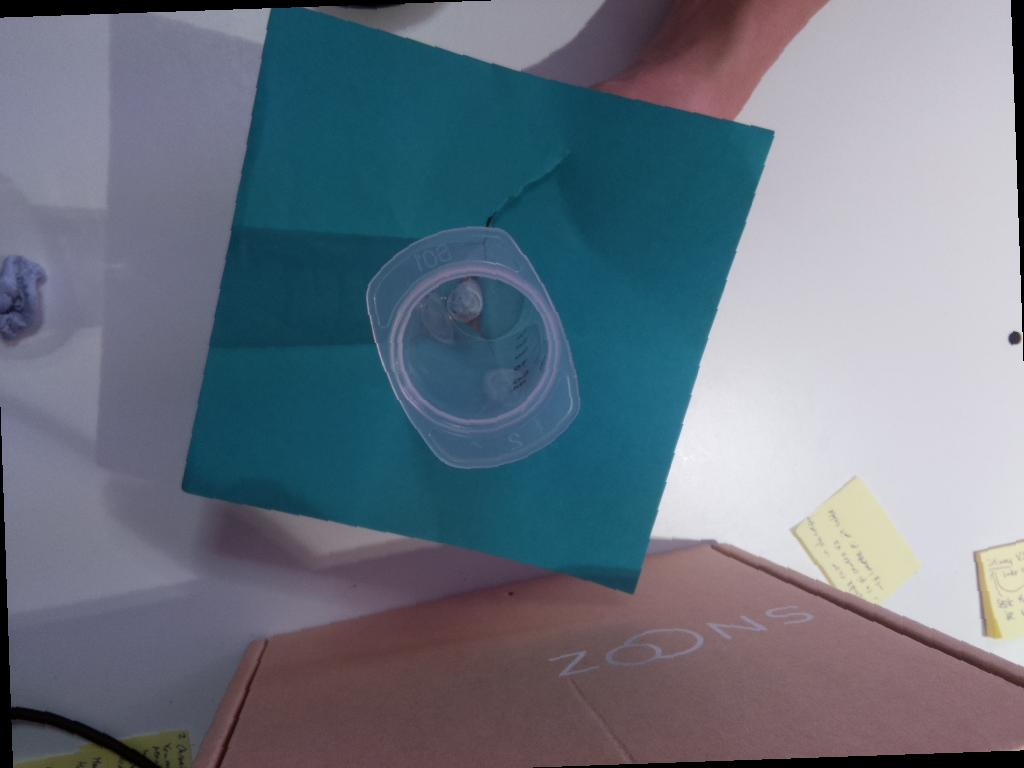clean: (362, 223, 582, 471)
